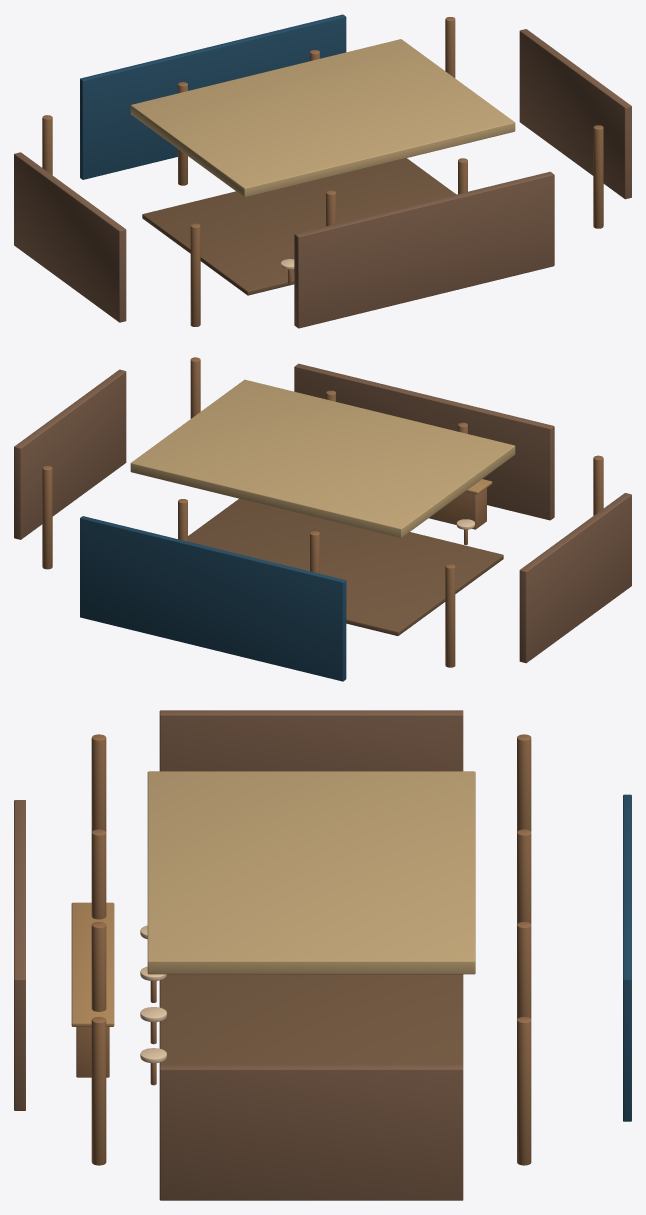
Rendered from casino_lounge.glb.
3 views of the same model, one above another, from view 1: azimuth 30°, elevation 25°; view 2: azimuth 150°, elevation 25°; view 3: azimuth 270°, elevation 25° (orthographic). The views are drawn at different scales.
Parts seen in each view (by area): view 1: Roof, WallBack, Floor, Ocean, WallLeft, WallRight, Post_-5.5_-3.5, Post_5.5_-3.5, Post_5.5_3.5, Post_-5.5_3.5; view 2: Roof, Ocean, Floor, WallBack, WallLeft, WallRight, Bar, Post_5.5_3.5, Post_-5.5_3.5, Post_5.5_-3.5, Post_-5.5_-3.5; view 3: Roof, WallRight, Floor, WallLeft, BarTop, WallBack, Ocean, Post_5.5_-3.5, Post_5.5_3.5, Post_-5.5_-3.5, Post_-5.5_3.5, Post_1.8_3.5 (+4 smaller).
Part boxes in pixels (x1=…): Roof: x1=130, y1=39, x2=515, y2=197; WallBack: x1=294, y1=171, x2=554, y2=328; Floor: x1=142, y1=158, x2=456, y2=295; Ocean: x1=80, y1=14, x2=346, y2=179; WallLeft: x1=14, y1=152, x2=126, y2=322; WallRight: x1=519, y1=29, x2=631, y2=199; Post_-5.5_-3.5: x1=190, y1=223, x2=200, y2=326; Post_5.5_-3.5: x1=593, y1=125, x2=603, y2=228; Post_5.5_3.5: x1=445, y1=17, x2=455, y2=77; Post_-5.5_3.5: x1=42, y1=115, x2=52, y2=174; Roof: x1=130, y1=379, x2=515, y2=537; Ocean: x1=80, y1=516, x2=346, y2=681; Floor: x1=188, y1=498, x2=503, y2=635; WallBack: x1=294, y1=363, x2=554, y2=520; WallLeft: x1=519, y1=493, x2=631, y2=663; WallRight: x1=14, y1=369, x2=126, y2=539; Bar: x1=429, y1=488, x2=486, y2=529; Post_5.5_3.5: x1=42, y1=465, x2=52, y2=569; Post_-5.5_3.5: x1=445, y1=564, x2=455, y2=667; Post_5.5_-3.5: x1=190, y1=357, x2=200, y2=418; Post_-5.5_-3.5: x1=593, y1=455, x2=603, y2=515; Roof: x1=147, y1=771, x2=475, y2=974; WallRight: x1=159, y1=1064, x2=463, y2=1200; Floor: x1=159, y1=974, x2=463, y2=1064; WallLeft: x1=159, y1=710, x2=463, y2=771; BarTop: x1=71, y1=902, x2=114, y2=1026; WallBack: x1=14, y1=800, x2=25, y2=1110; Ocean: x1=623, y1=794, x2=631, y2=1121; Post_5.5_-3.5: x1=91, y1=1016, x2=106, y2=1165; Post_5.5_3.5: x1=517, y1=1016, x2=531, y2=1165; Post_-5.5_-3.5: x1=91, y1=734, x2=106, y2=832; Post_-5.5_3.5: x1=517, y1=734, x2=531, y2=831; Post_1.8_3.5: x1=517, y1=921, x2=531, y2=1019.
Size of the model in its own units: 14 by 2.97 by 10.17.
